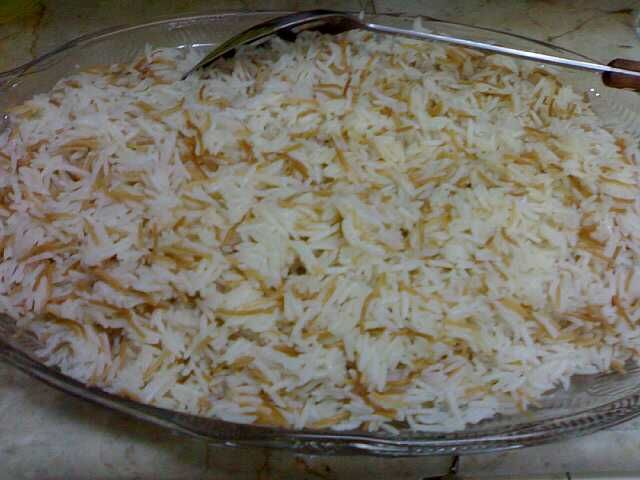plain rice: (8, 59, 619, 403)
